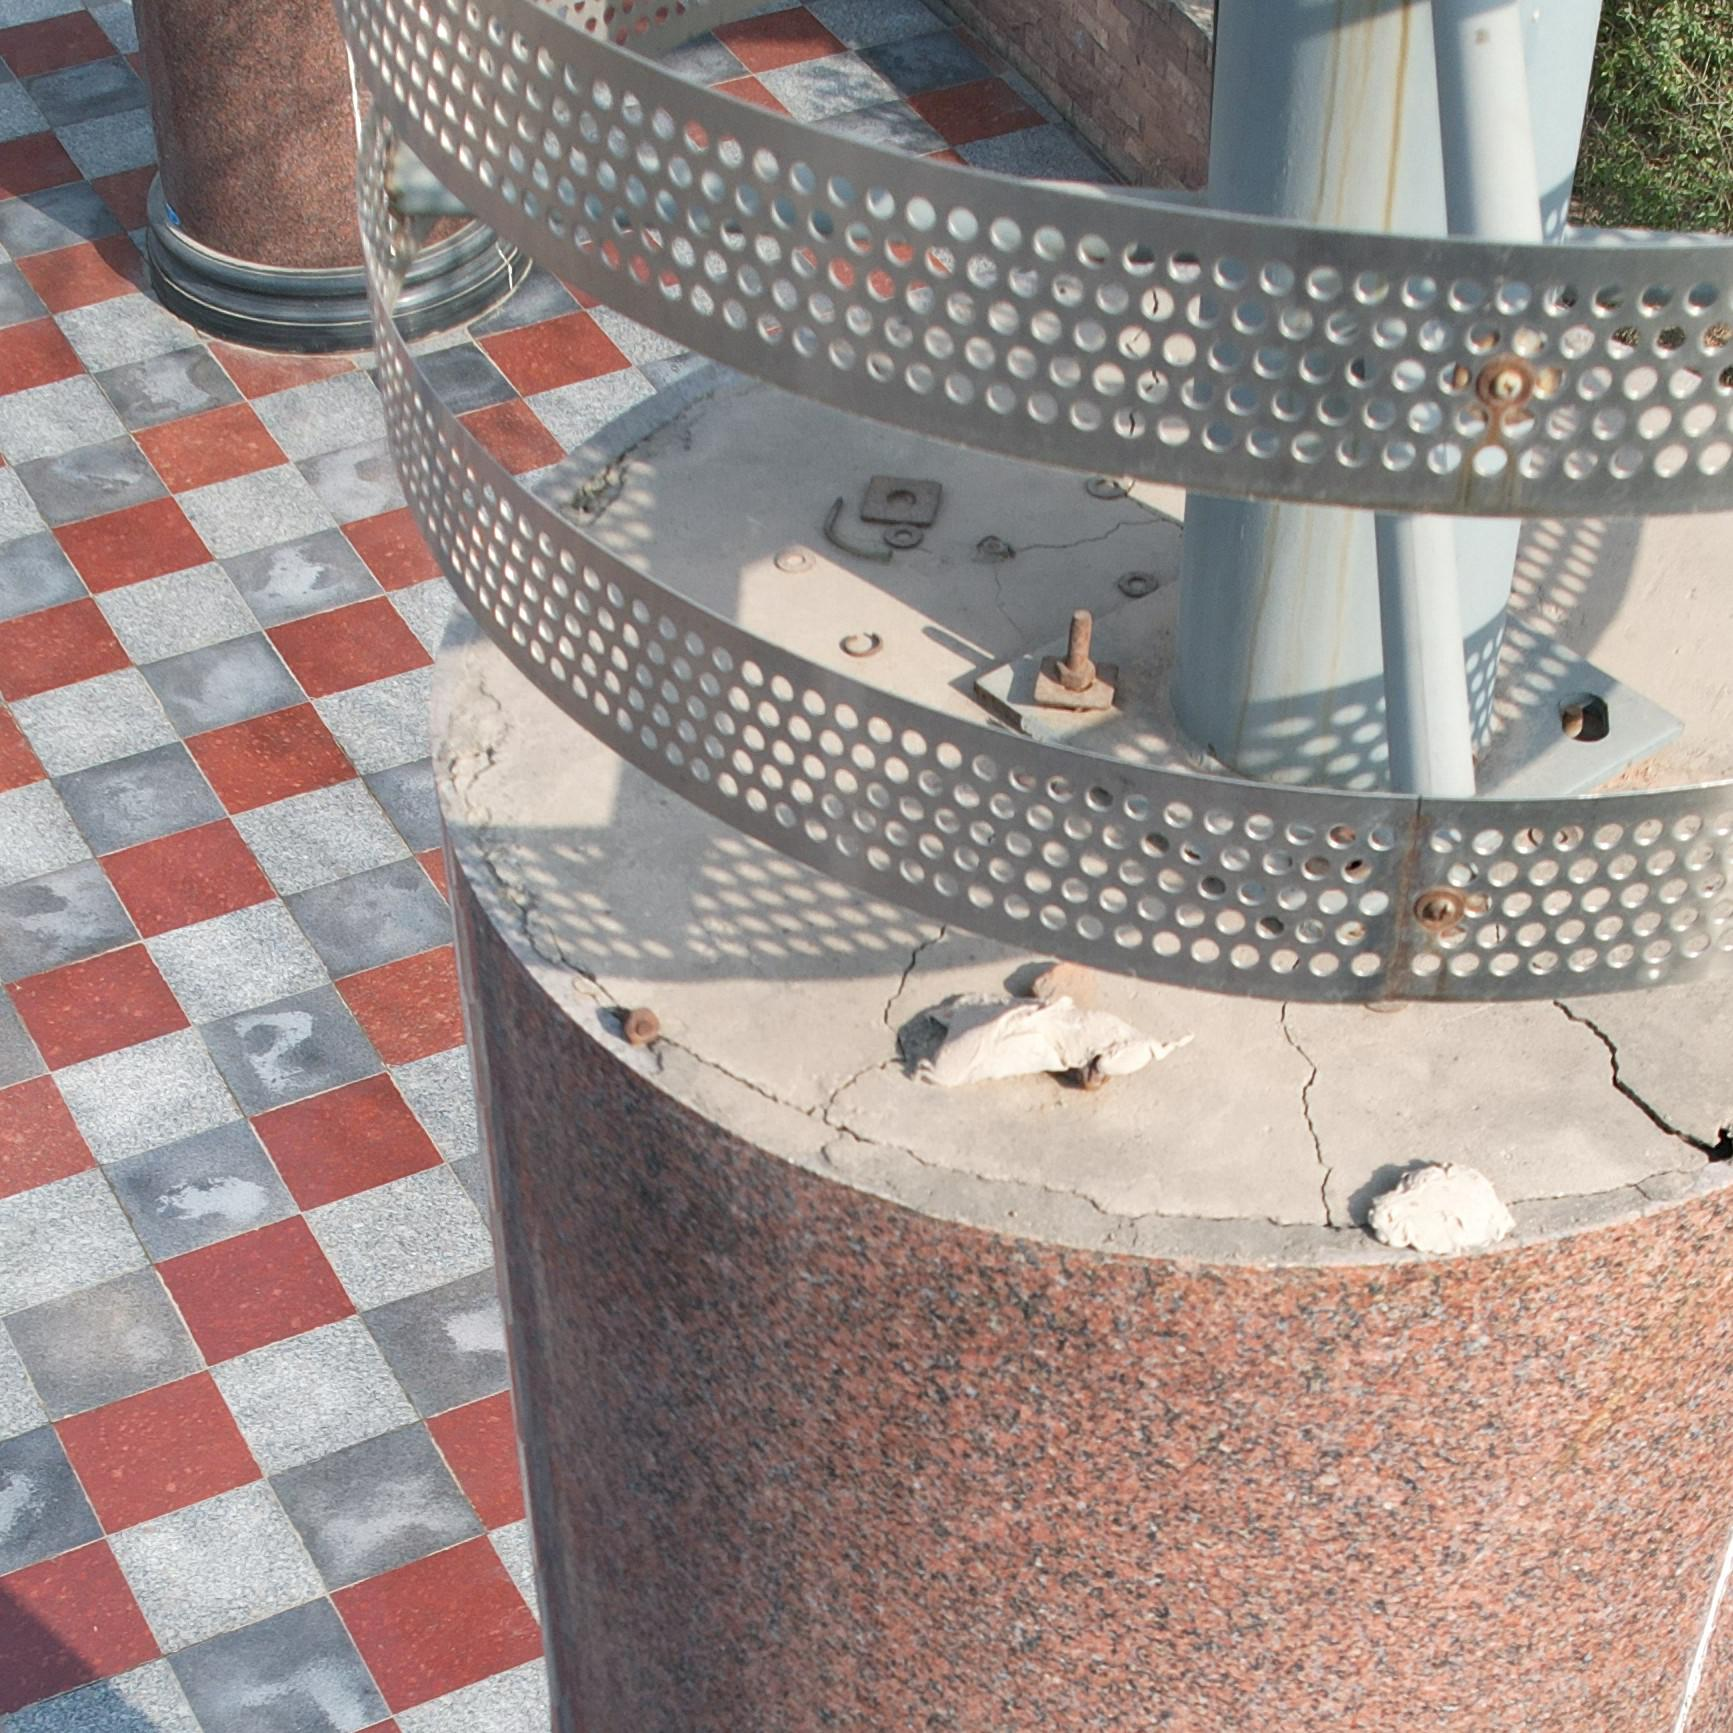vague: (1051, 651, 1100, 692)
